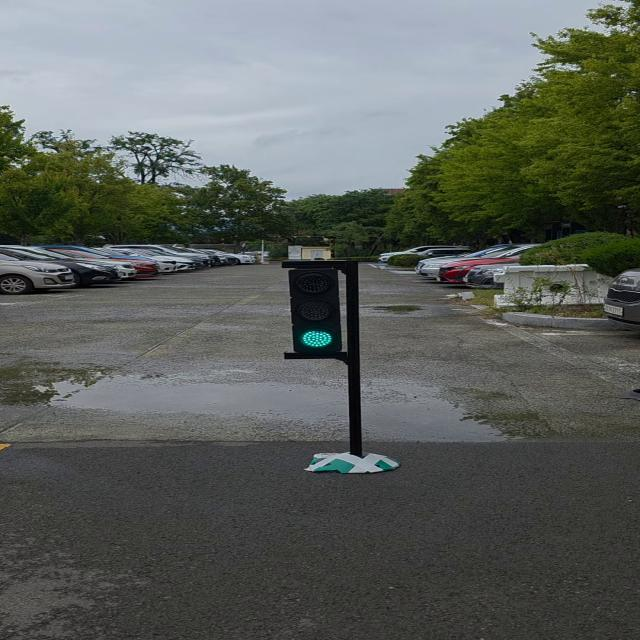green: (283, 262, 351, 358)
